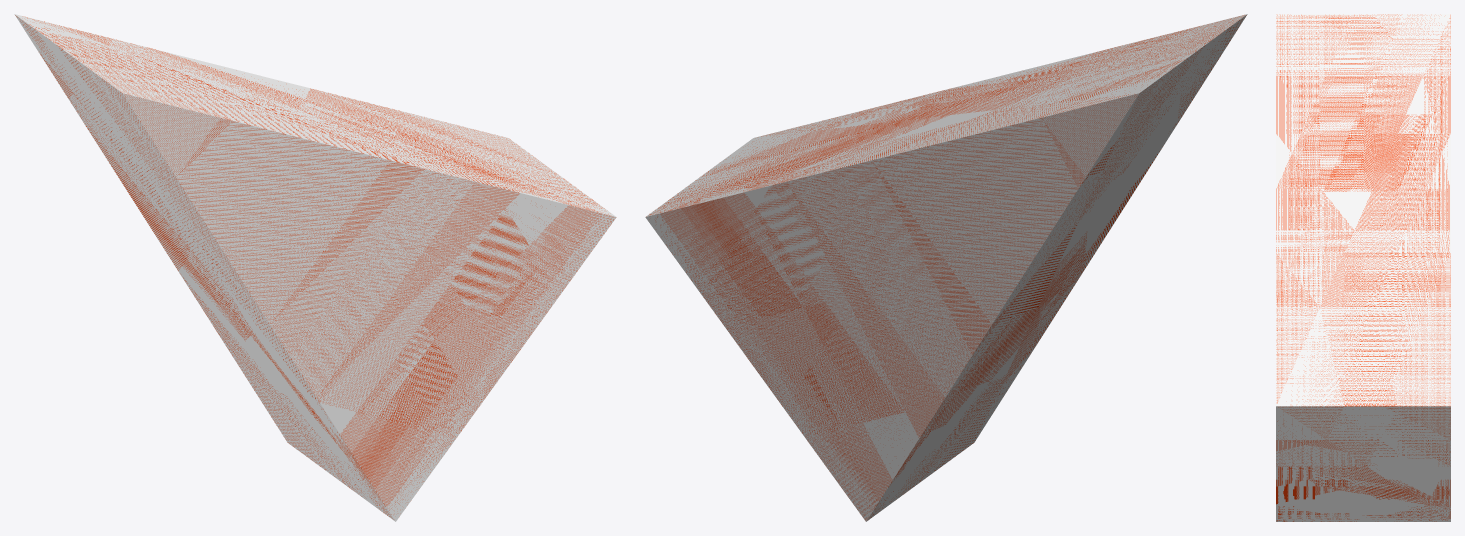
The model's file is cake_white.dae.
The picture shows the model from 3 angles, left to right: view 1: azimuth 30°, elevation 25°; view 2: azimuth 150°, elevation 25°; view 3: azimuth 270°, elevation 25°; orthographic projection. The views are drawn at different scales.
Parts seen in each view (by area): view 1: SketchUp; view 2: SketchUp; view 3: SketchUp.
Boxes of the visible parts, <box> form: SketchUp: <box>14,14,616,521</box>; SketchUp: <box>645,14,1247,521</box>; SketchUp: <box>1276,14,1450,521</box>.
Bounding box in the file's own units: 128 × 48.43 × 122.
